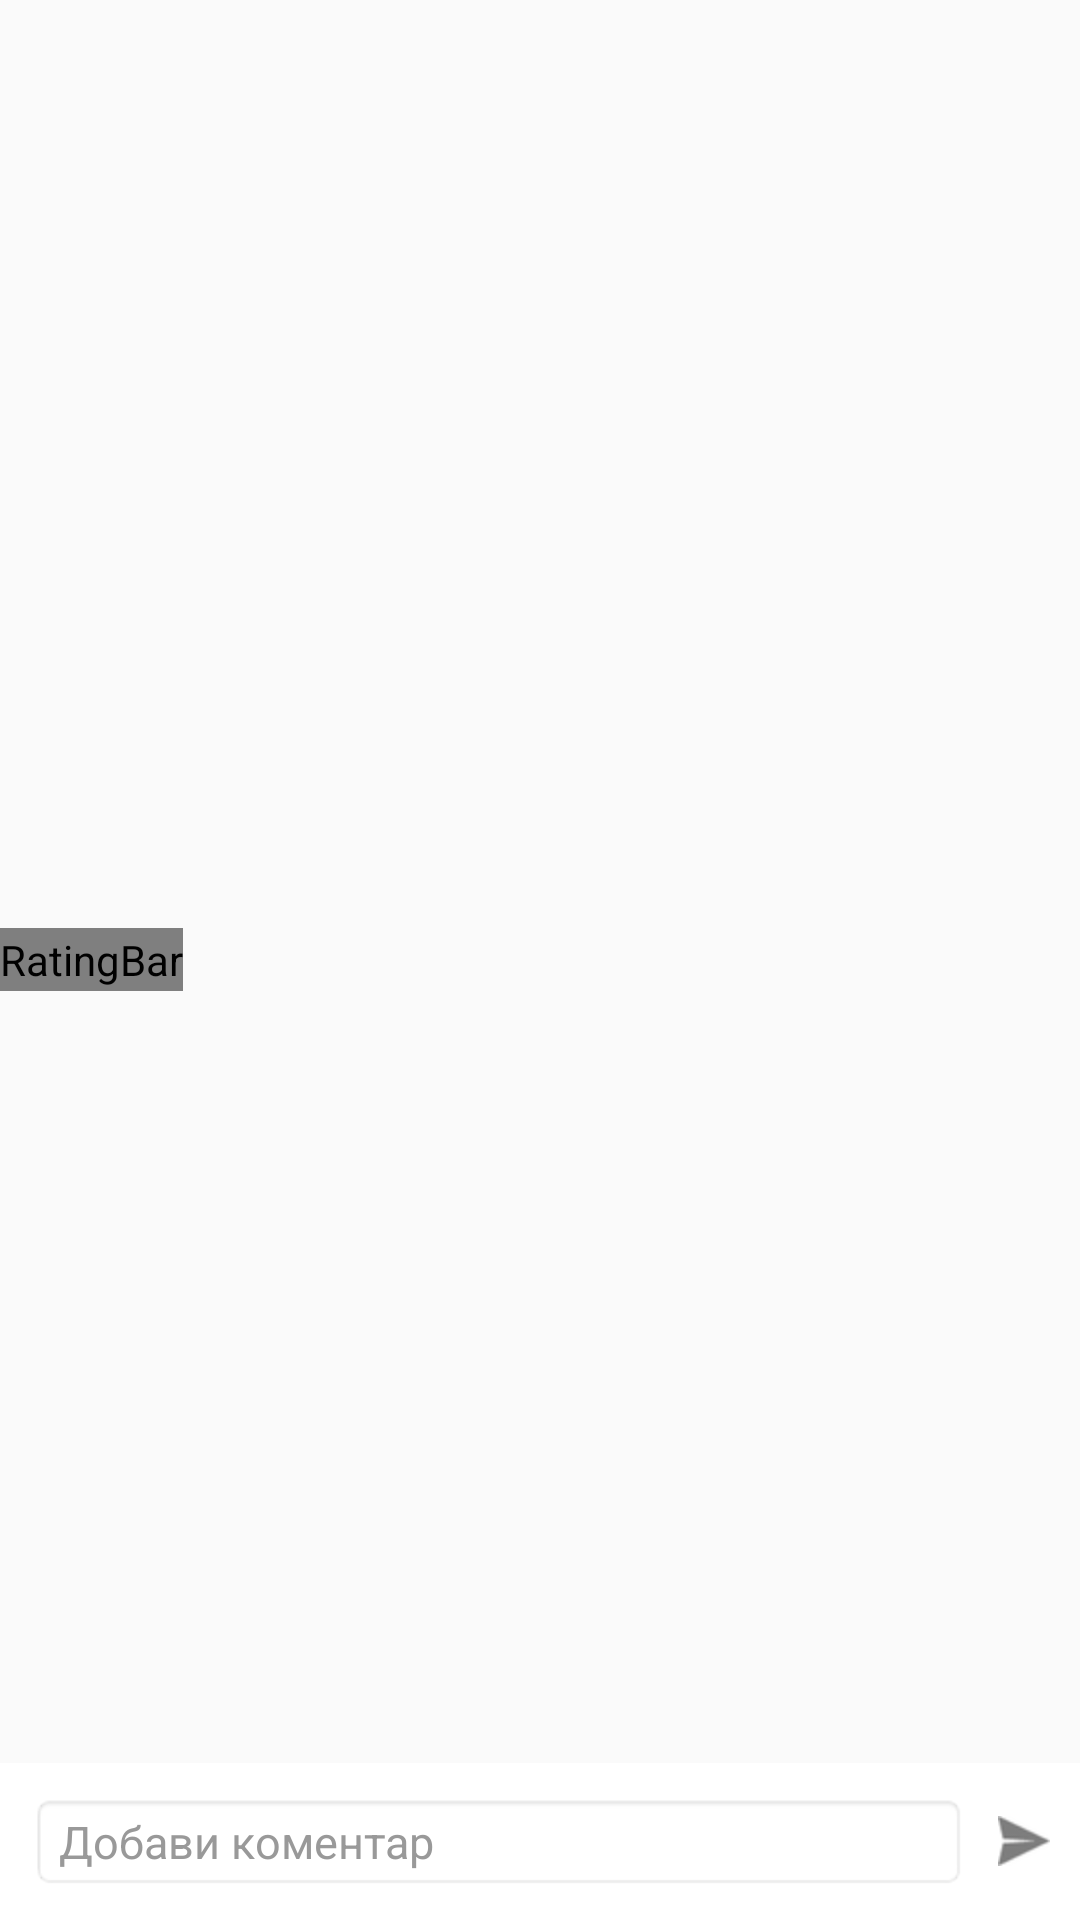

Icon click points for this 1080px x 1920px phone screenshot, format (x,y):
comment arrow: (1024,1841)
